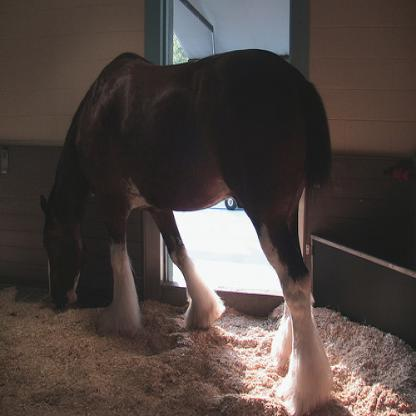horse: (36, 47, 334, 415)
